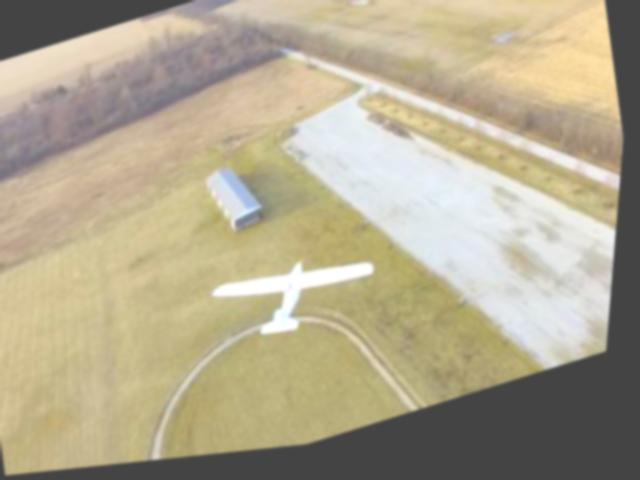uav: (204, 230, 398, 368)
